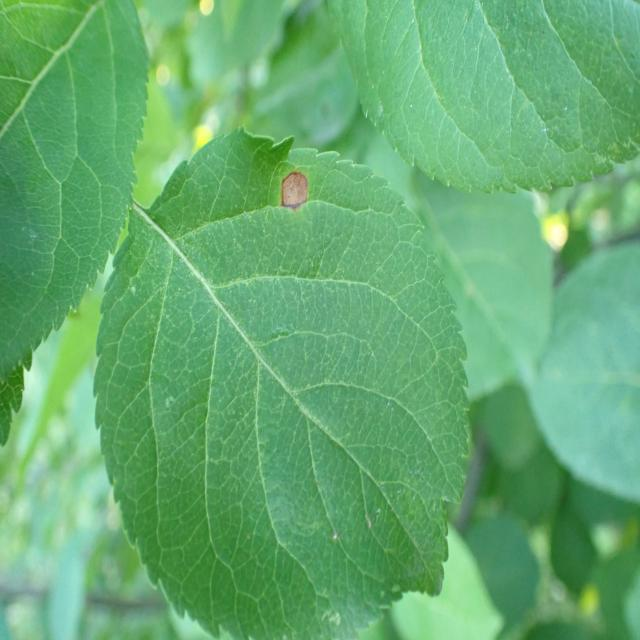Black Rot: (267, 151, 314, 231)
